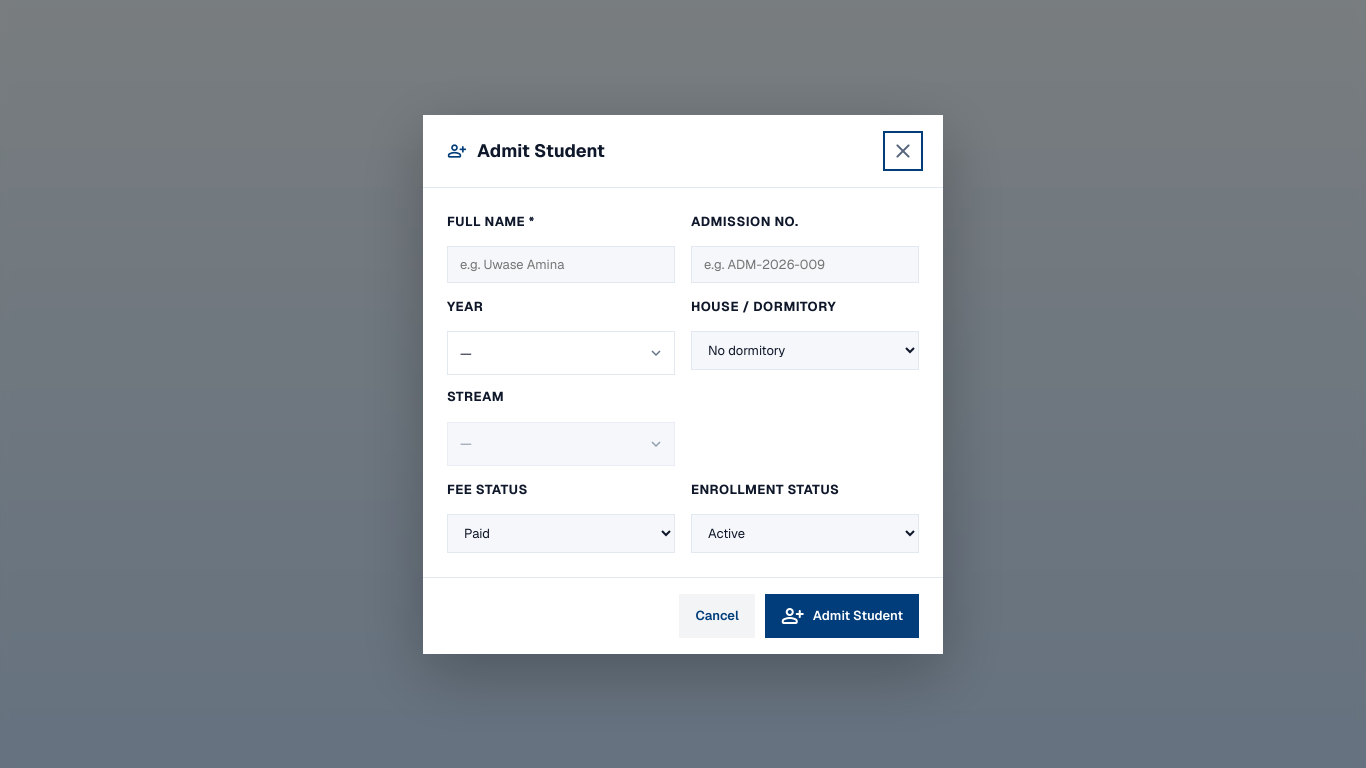
Test: AdminStudentModal › shows validation error when name is missing
Click the button "Admit Student" at (842, 615), box [765,593,919,637]
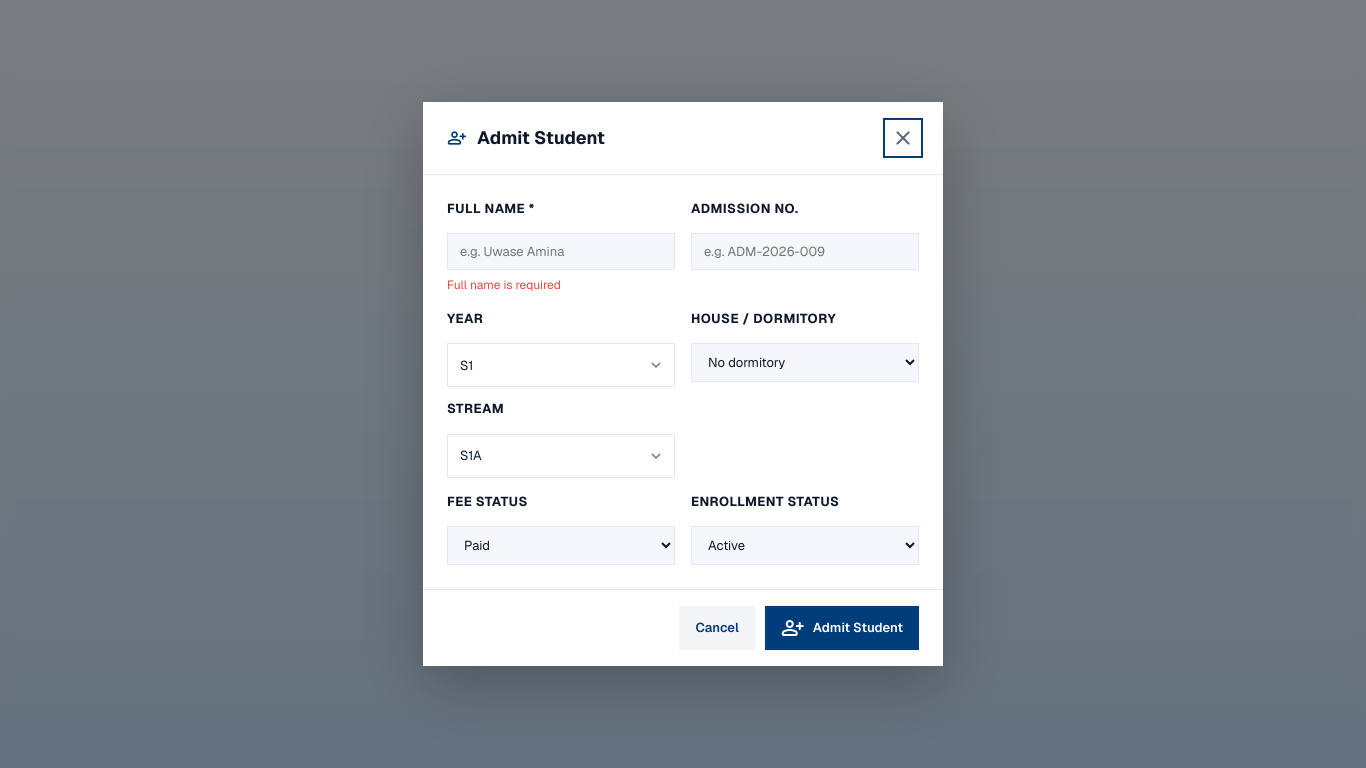
Expected: the text "Full name is required" is shown, [447,277,561,293]
